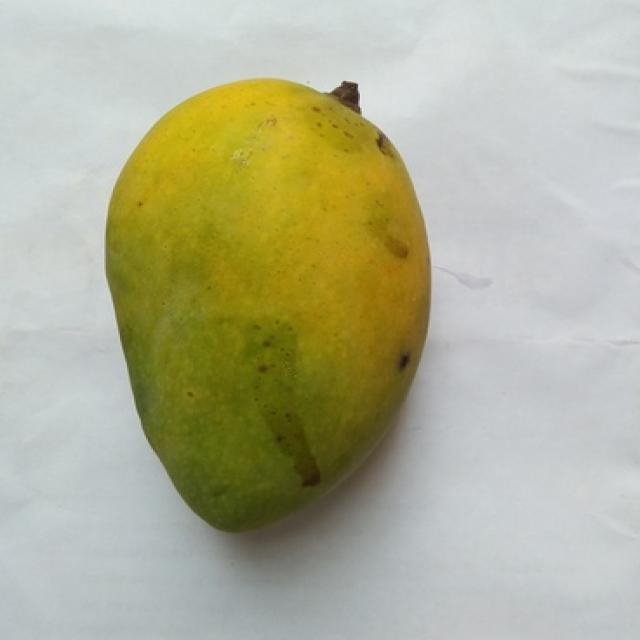Mango: (106, 78, 430, 530)
